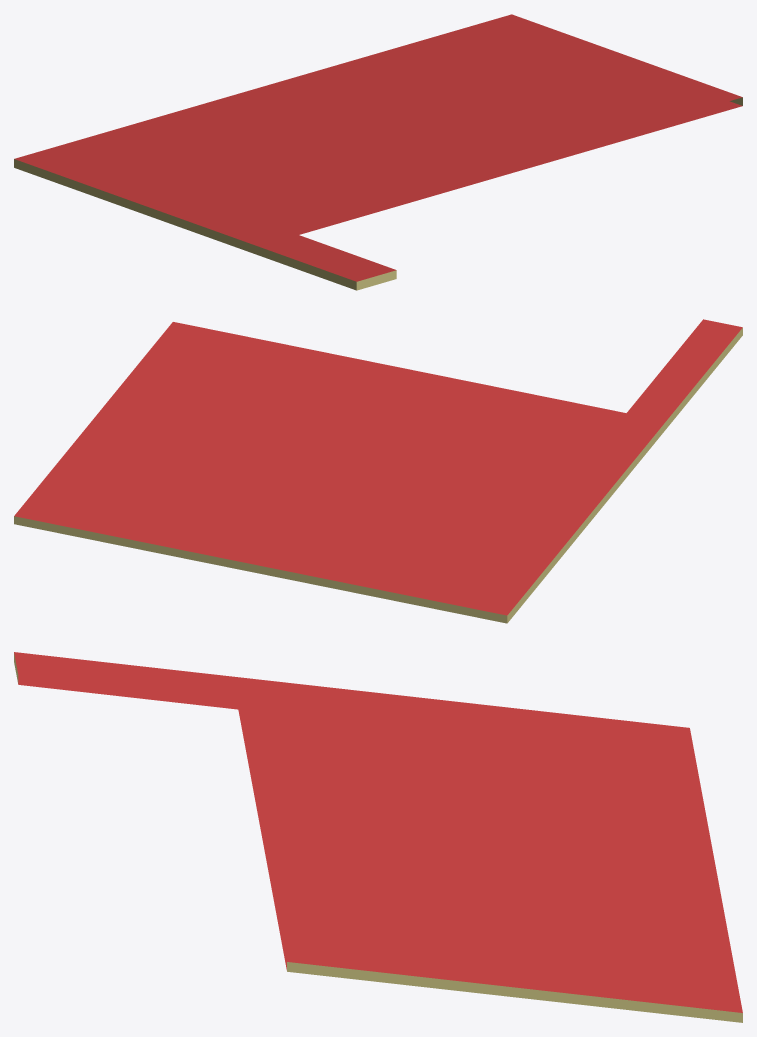
3 views of the same model, one above another, from view 1: azimuth 30°, elevation 25°; view 2: azimuth 150°, elevation 25°; view 3: azimuth 270°, elevation 25° (orthographic). The views are drawn at different scales.
Bounding box in the file's own units: 6.51 × 6.68 × 1.1.
